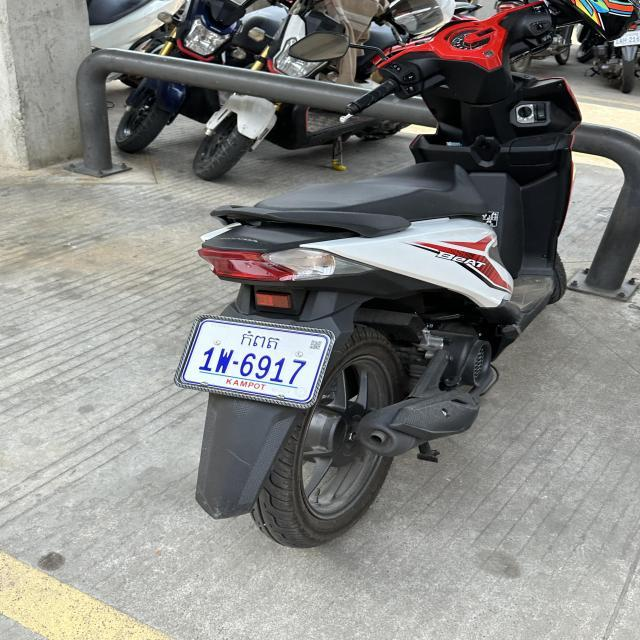Kampot: (239, 328, 281, 352)
